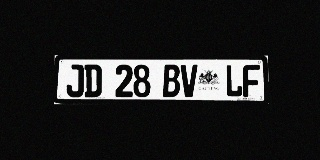2: (115, 64, 133, 97)
8: (133, 64, 150, 97)
B: (163, 64, 180, 97)
D: (84, 64, 102, 97)
F: (243, 65, 260, 97)
J: (66, 64, 84, 97)
L: (225, 65, 242, 97)
V: (181, 65, 198, 97)
